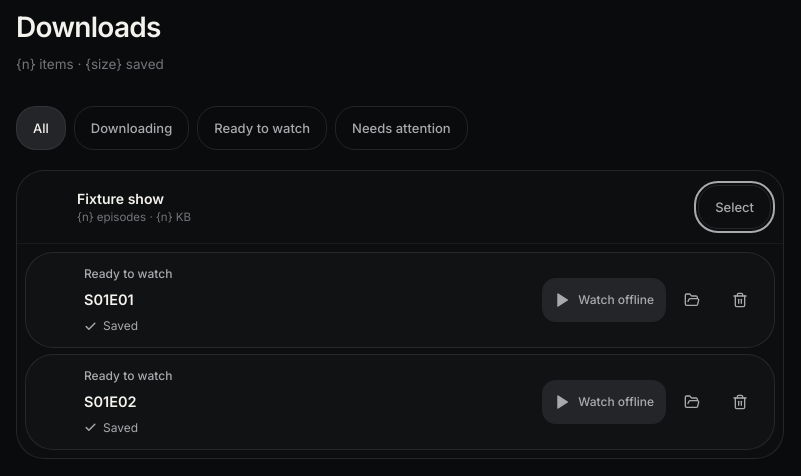
selects every episode of a show at once
The image size is (801, 476).
Click the button "Select" at (735, 207), box [698, 185, 771, 229]
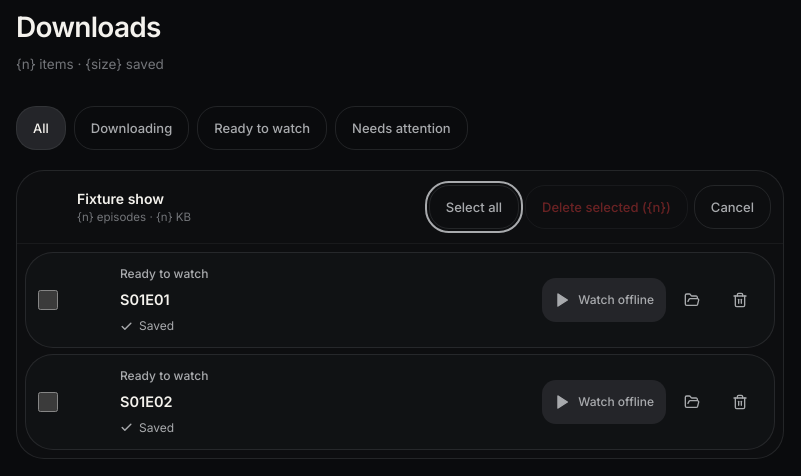
Click the button "Select all" at (474, 207), box [429, 185, 519, 229]
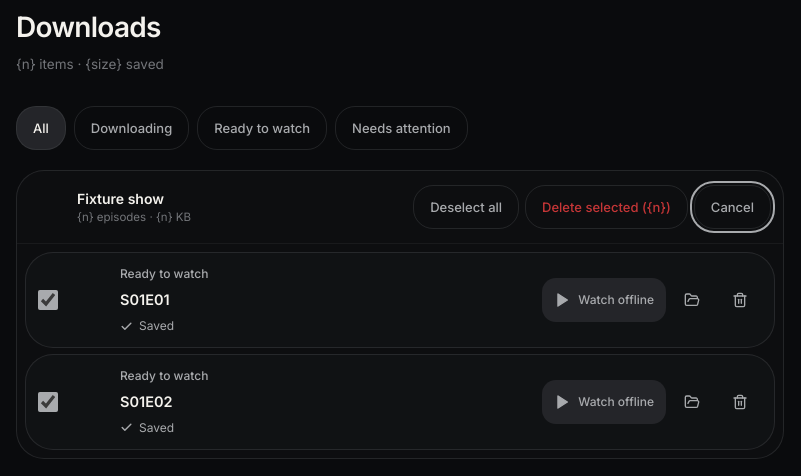
Click the button "Cancel" at (732, 207), box [694, 185, 771, 229]
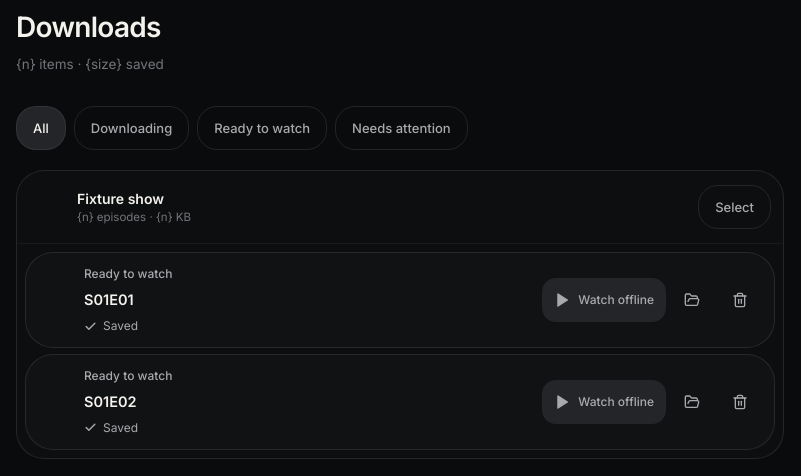
Expected: the checkbox is gone
